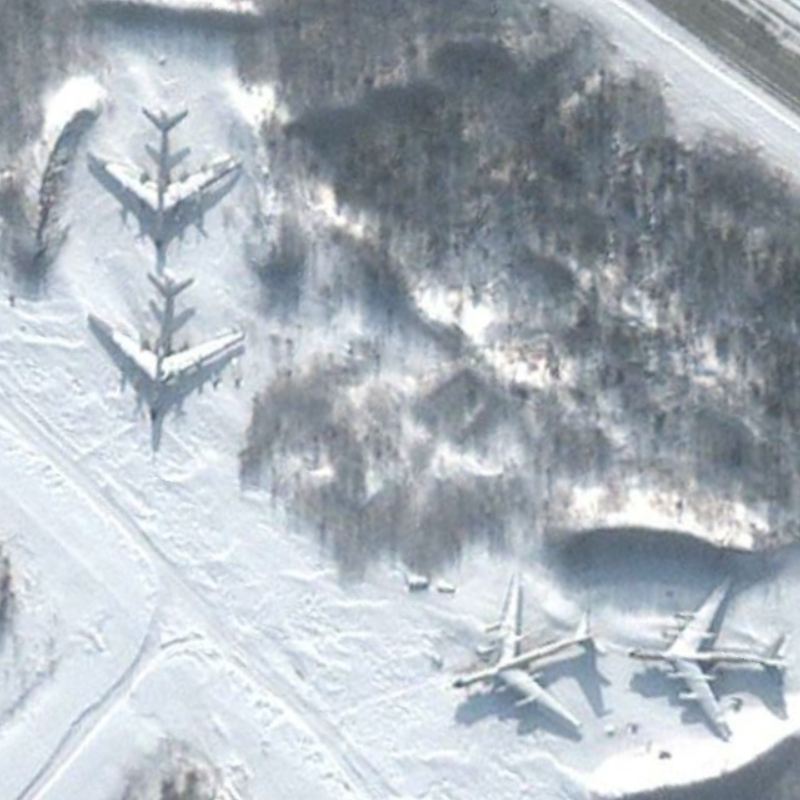A17: (625, 571, 789, 743), (447, 566, 611, 734), (85, 268, 249, 429), (82, 102, 244, 256)
